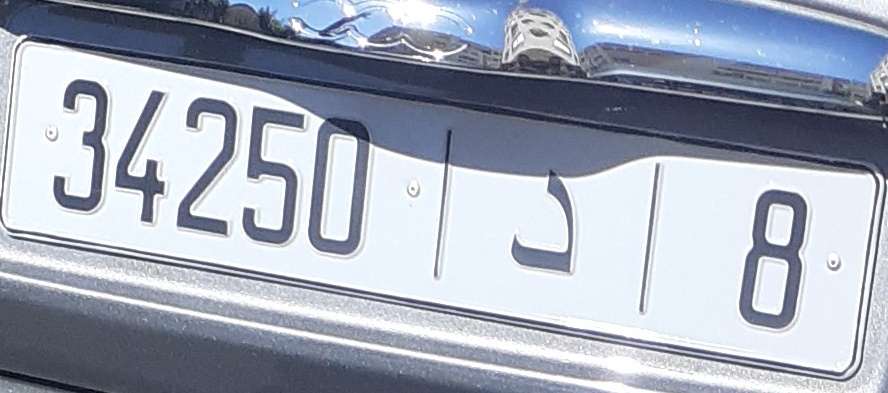0: (304, 113, 377, 264)
2: (168, 91, 248, 243)
3: (43, 65, 115, 221)
4: (106, 87, 170, 229)
5: (237, 103, 310, 252)
8: (728, 183, 813, 335)
d: (483, 150, 593, 293)
